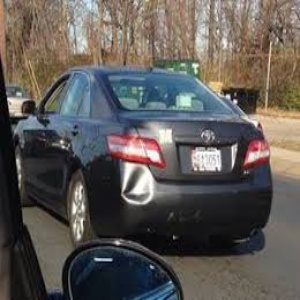bumper: (106, 159, 162, 212)
